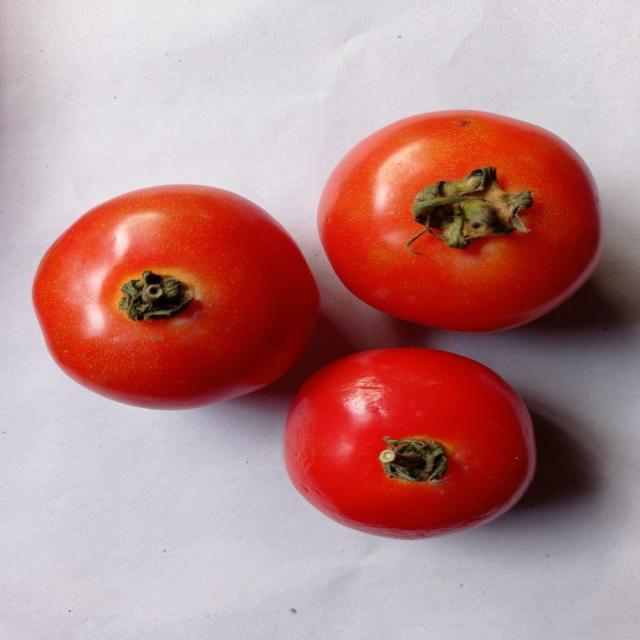Ripe: (25, 177, 321, 413), (315, 106, 608, 327), (287, 344, 538, 544)
